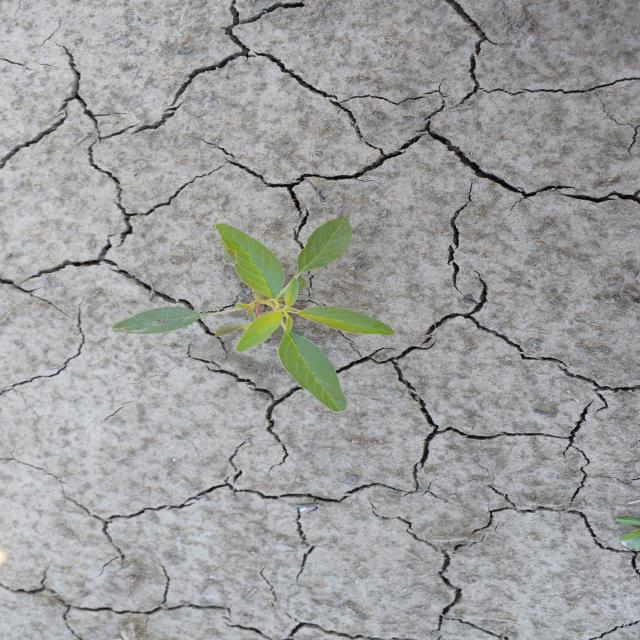Waterhemp: (109, 214, 398, 414)
